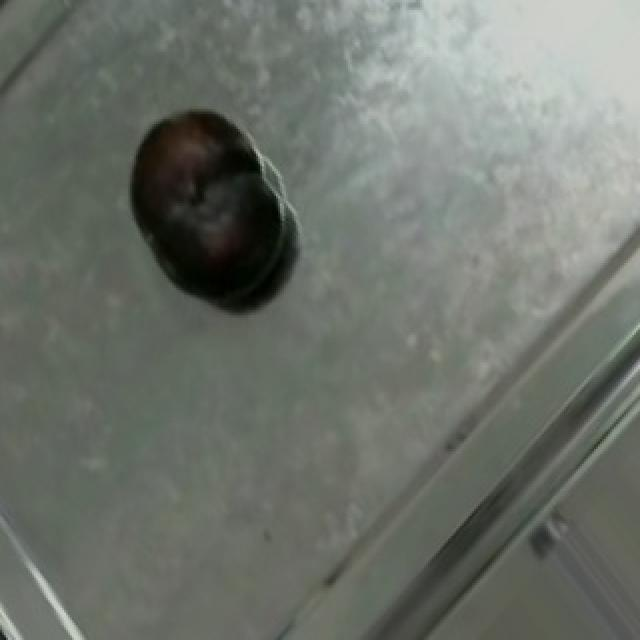Fruit: (114, 139, 300, 312)
